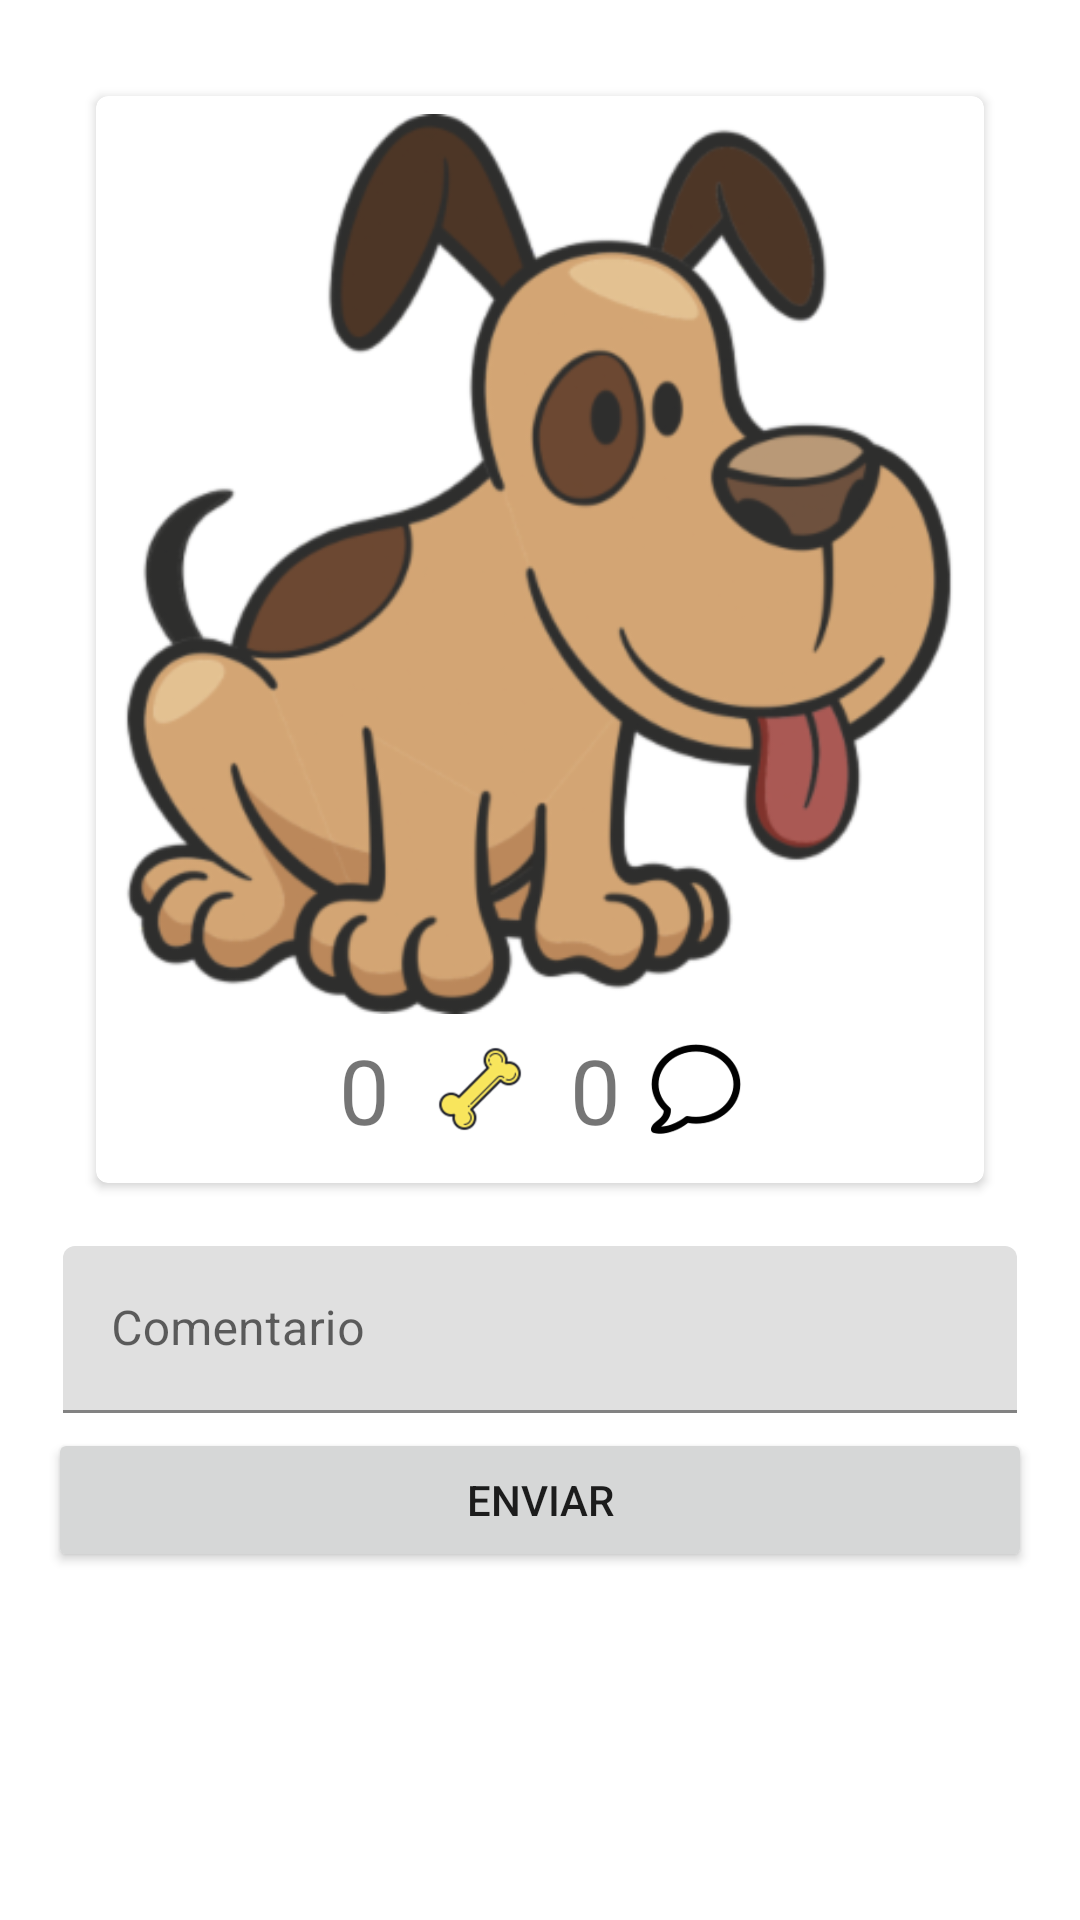

Where icons sit on this 1080x1920 app screen, as (x1, y1, x2, y2):
hueso del perro: (439, 1048, 521, 1130)
